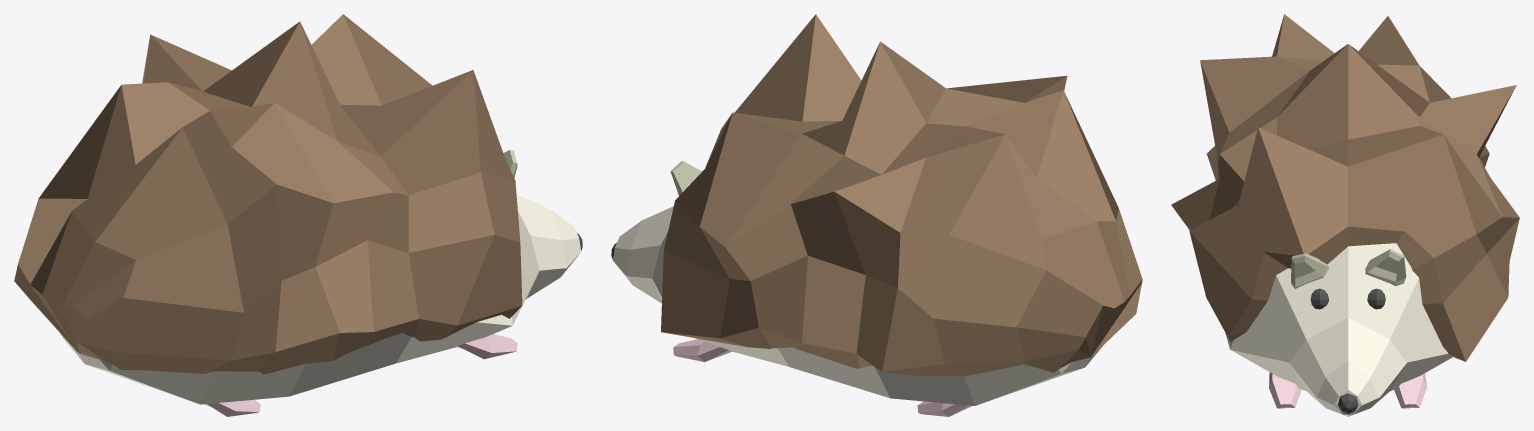
The model's file is hedgehog.glb.
3 renders of one model, left to right at view 1: azimuth 30°, elevation 25°; view 2: azimuth 150°, elevation 25°; view 3: azimuth 270°, elevation 25°, orthographic. The views are drawn at different scales.
Parts seen in each view (by area): view 1: Hedgehog; view 2: Hedgehog; view 3: Hedgehog.
Part boxes in pixels (bbox=[...]): Hedgehog: bbox=[14, 14, 582, 416]; Hedgehog: bbox=[611, 14, 1142, 416]; Hedgehog: bbox=[1171, 14, 1519, 416].
Bounding box in the file's own units: 0.69 × 0.4198 × 0.4523.
